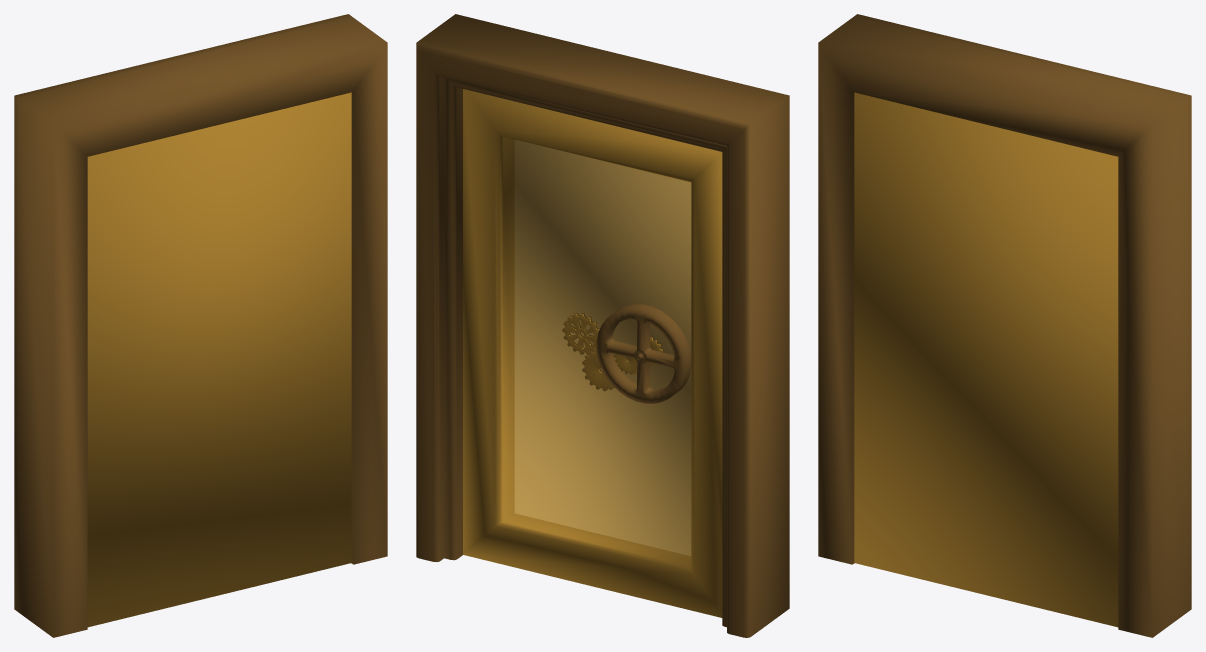
File: Door.fbx
3 views of the same model, side by side, from view 1: azimuth 30°, elevation 25°; view 2: azimuth 150°, elevation 25°; view 3: azimuth 330°, elevation 25° (orthographic).
Visible parts, largest first — view 1: Door_Main_Body, Door_Main_Frame; view 2: Door_Main_Body, Door_Main_Frame, Door_Main_Knob, Door_Main_Gear_01, Door_Main_Gear_02; view 3: Door_Main_Body, Door_Main_Frame.
Part boxes in pixels (box(x1,y1,x2,y2)): Door_Main_Body: box(87, 92, 351, 627); Door_Main_Frame: box(14, 14, 387, 637); Door_Main_Body: box(463, 89, 722, 617); Door_Main_Frame: box(416, 14, 789, 637); Door_Main_Knob: box(596, 304, 691, 403); Door_Main_Gear_01: box(562, 313, 599, 354); Door_Main_Gear_02: box(582, 350, 620, 391); Door_Main_Body: box(854, 92, 1118, 627); Door_Main_Frame: box(818, 14, 1191, 637).
Bounding box in the file's own units: 3195 × 4690 × 682.
